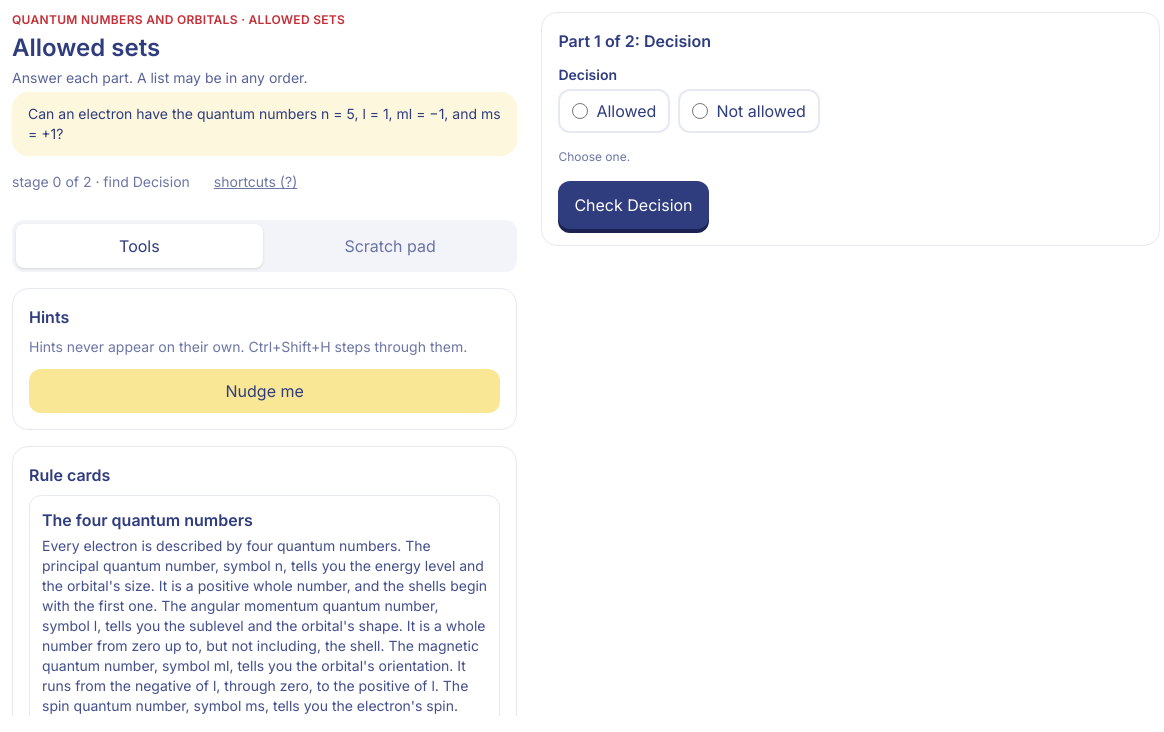
Test: Quantum numbers qn.allowed › an unreadable answer records nothing
The width and height of the screenshot is (1164, 732).
Click the button "Check Decision": (634, 205) [558, 181, 709, 229]
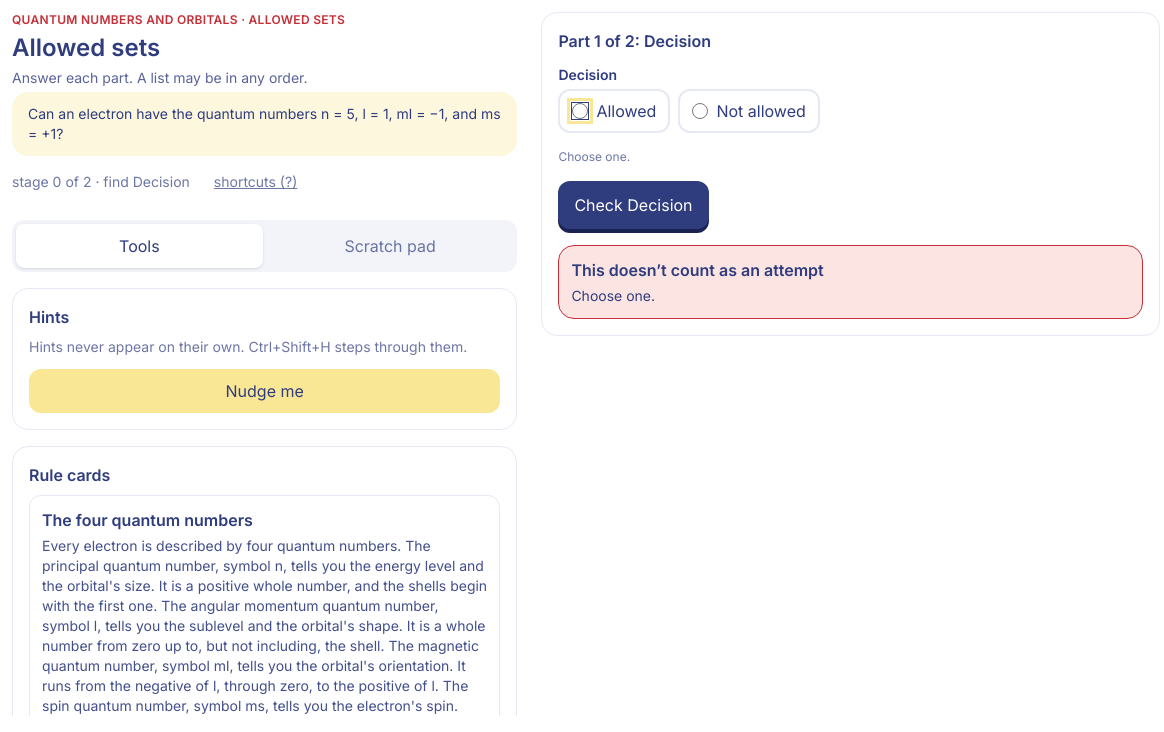
Result: the message shows "This doesn’t count as an attempt" at [571, 260, 824, 280]
